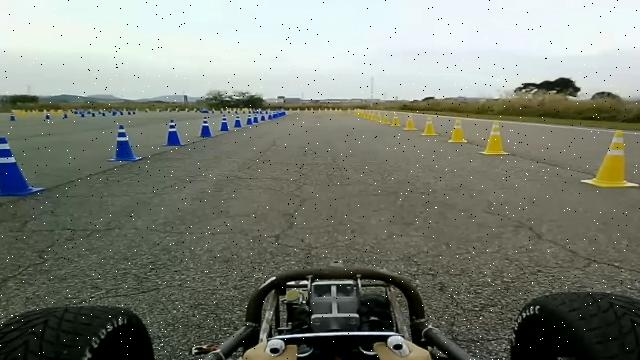blue cone: (0, 136, 45, 196), (106, 124, 142, 162), (161, 119, 184, 146), (196, 115, 213, 138), (218, 114, 230, 132), (232, 114, 242, 128), (245, 115, 252, 125)
yellow cone: (580, 129, 640, 188), (478, 119, 509, 155), (447, 117, 467, 143), (421, 114, 438, 136), (405, 114, 417, 133), (389, 112, 401, 127), (373, 112, 382, 122), (382, 113, 390, 124), (366, 111, 374, 120)
